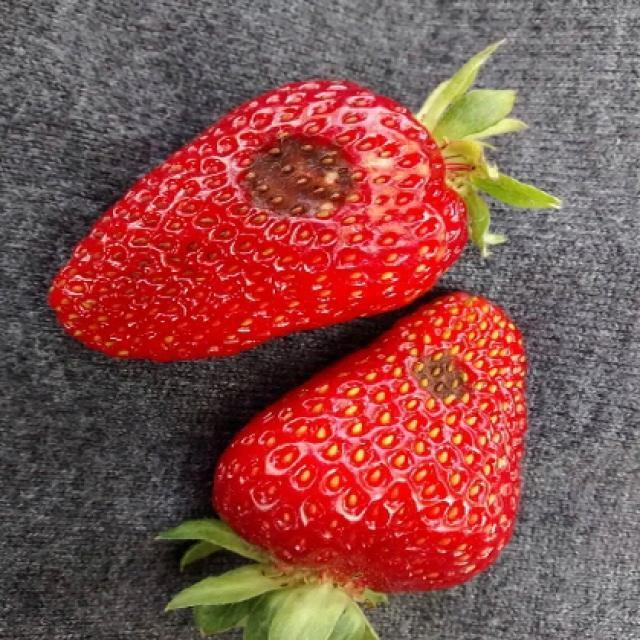Anthracnose Fruit Rot: (46, 52, 560, 365), (168, 288, 530, 640)
